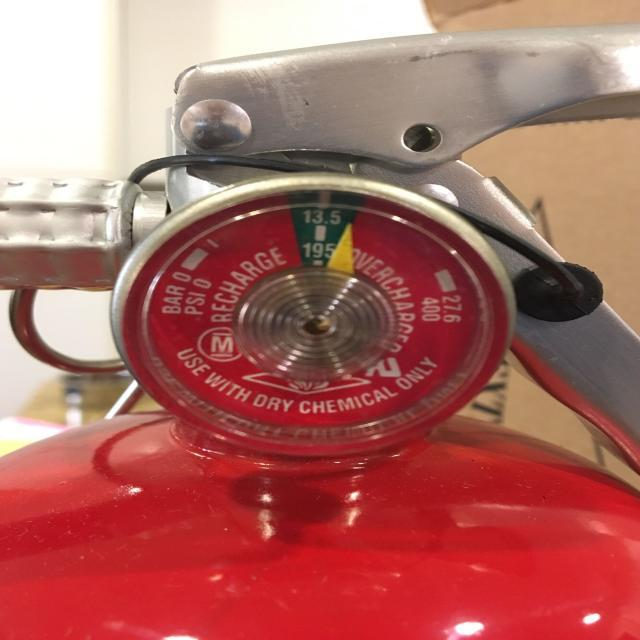pressure gauge: (113, 175, 514, 454)
